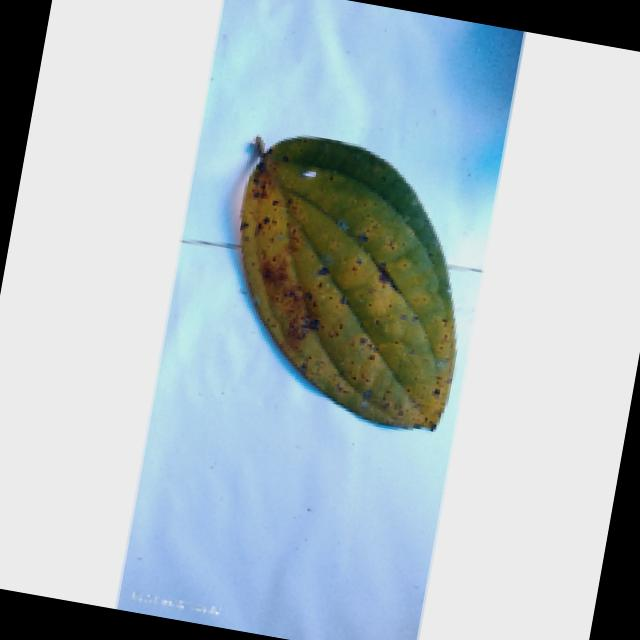slow-decline: (185, 105, 502, 442)
